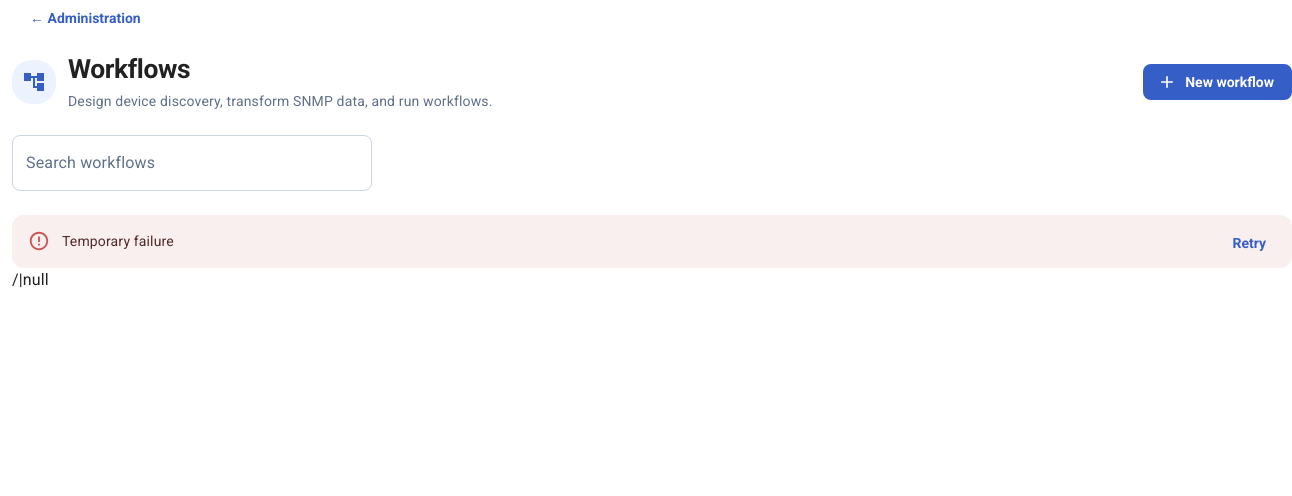
Test case: workflow catalog › retries a failed request through the Retry button
Expected: the message shows "Temporary failure", [62,233,174,249]
Click the button "Retry" at (1249, 243), box [1214,225,1284,262]
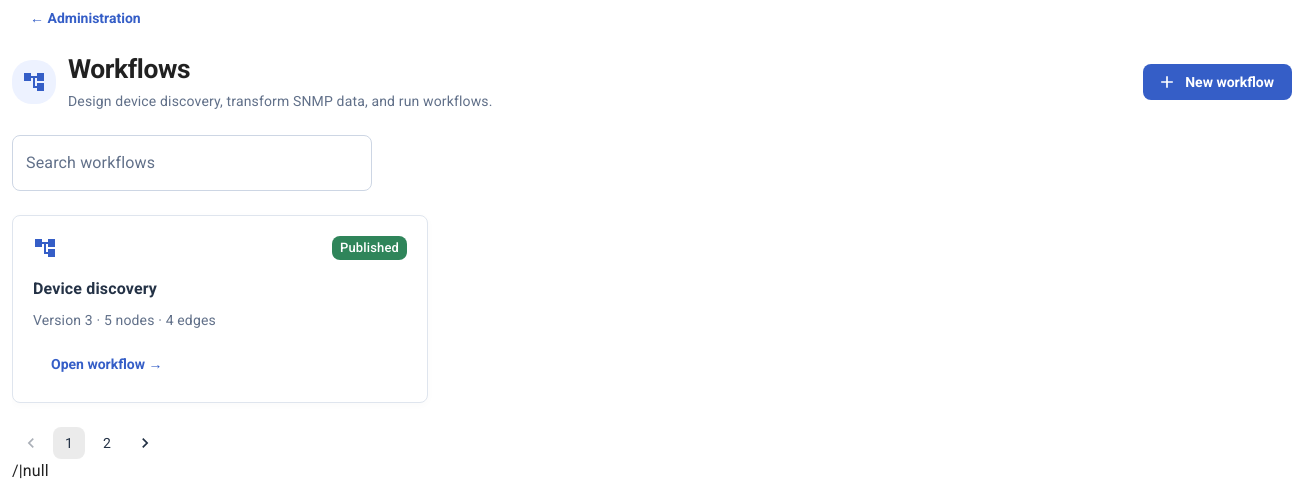
Now the heading "Device discovery" is shown, box [33,279,157,298]
